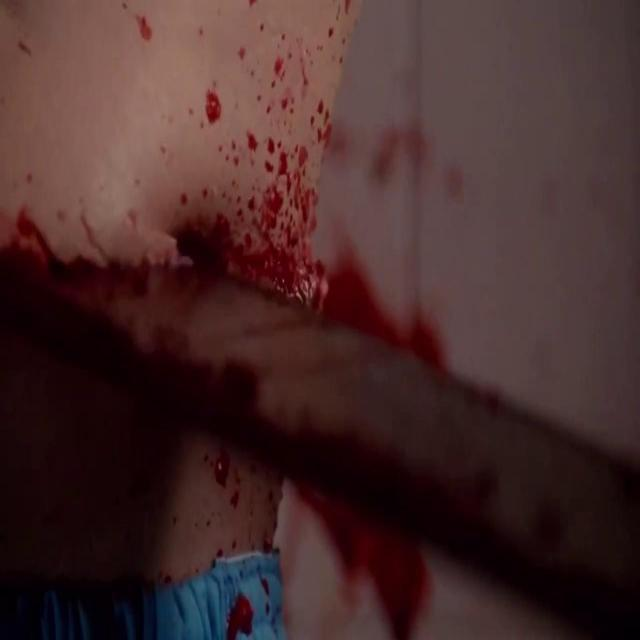flood: (162, 73, 452, 379)
